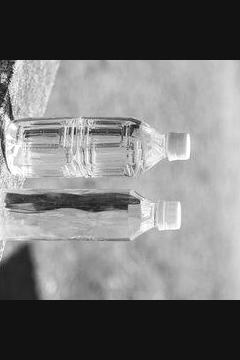bottle: (1, 112, 194, 184), (0, 180, 185, 246)
